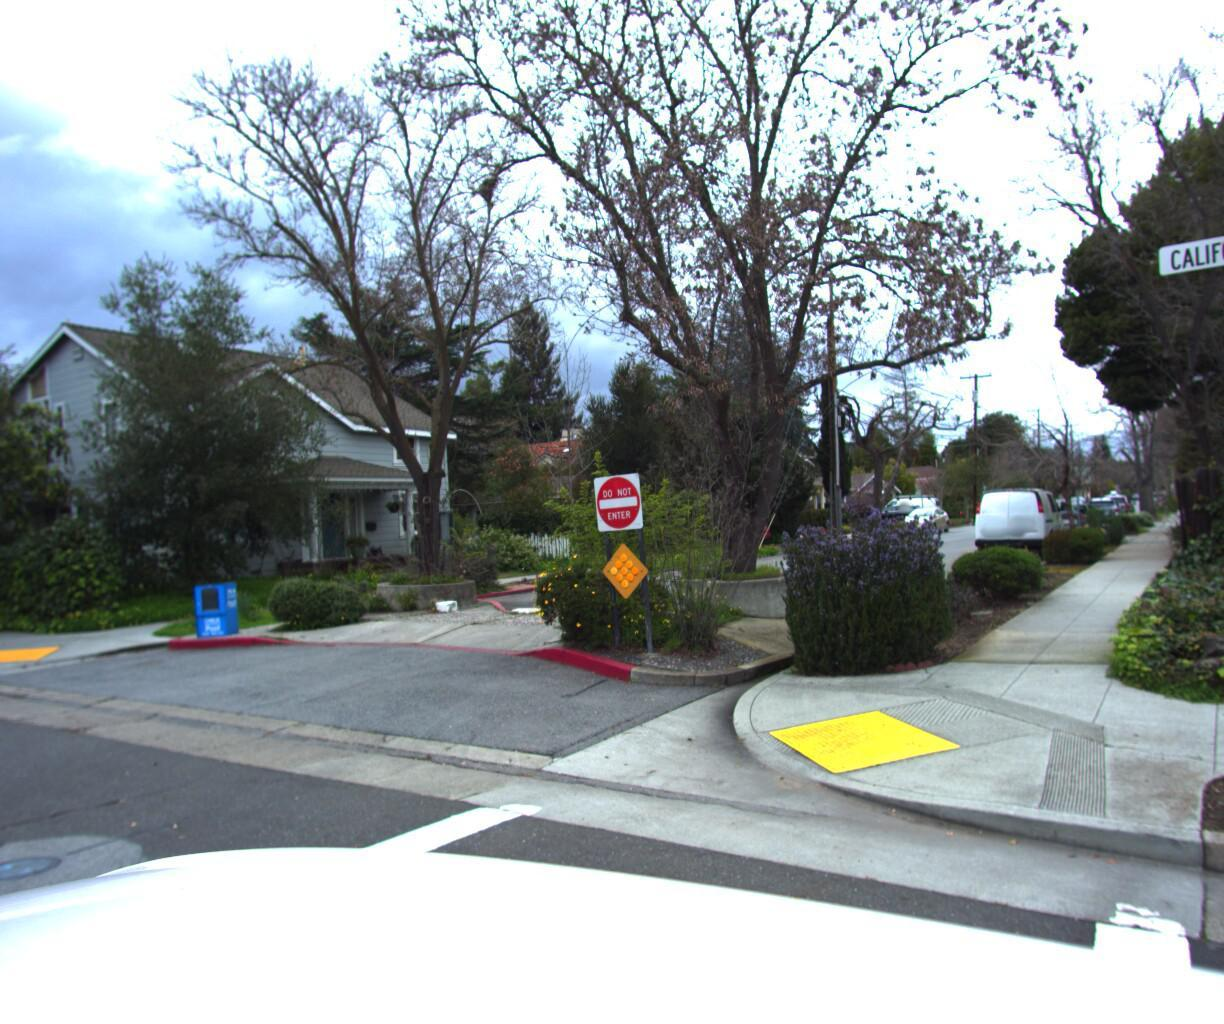car: (970, 482, 1068, 556), (781, 493, 884, 535), (874, 491, 953, 526), (1043, 498, 1103, 541), (896, 505, 952, 537), (1079, 496, 1123, 530), (1095, 492, 1133, 523)
